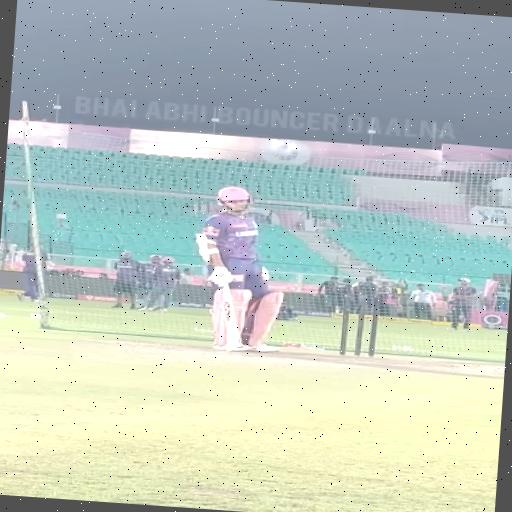Cricket bat: (223, 284, 239, 351)
